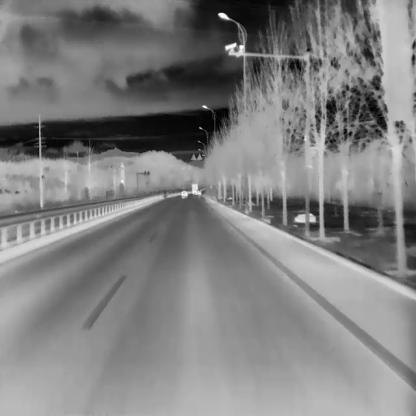car: (191, 182, 198, 194), (181, 189, 187, 197), (196, 189, 201, 195)
